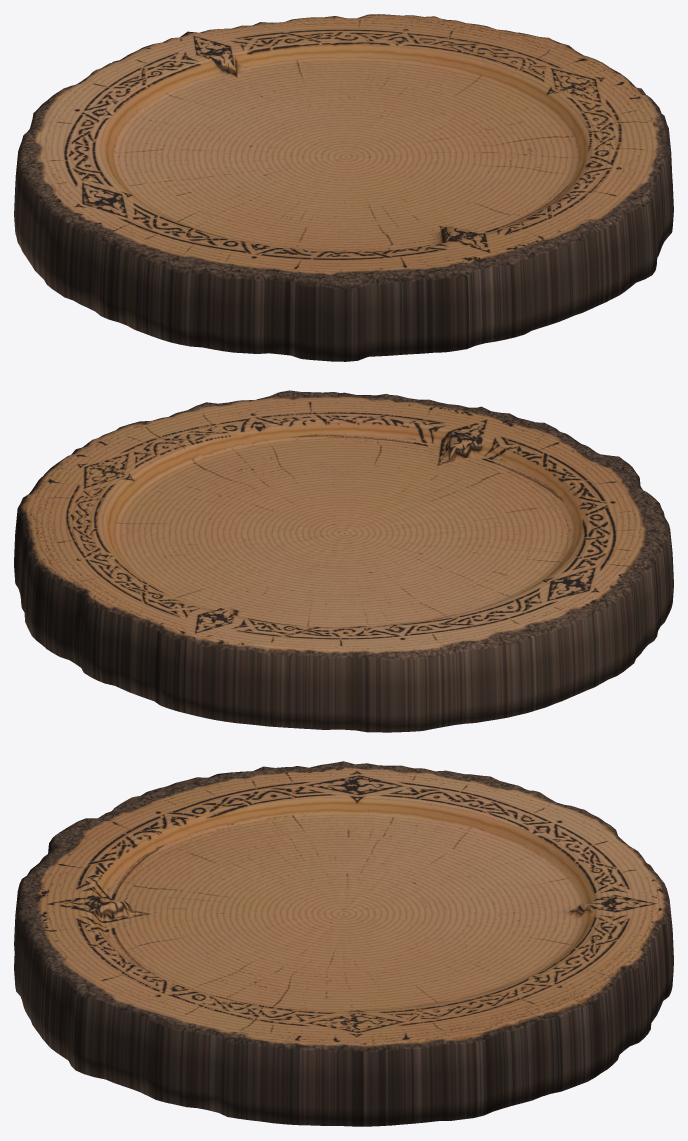
The model's file is board.glb.
The picture shows the model from 3 angles, top to bottom: view 1: azimuth 30°, elevation 25°; view 2: azimuth 150°, elevation 25°; view 3: azimuth 270°, elevation 25°; orthographic projection. The views are drawn at different scales.
Visible parts, largest first — view 1: board; view 2: board; view 3: board.
Boxes of the visible parts, box(x1,y1,x2,y2) form: board: box(14, 14, 673, 361); board: box(14, 390, 673, 732); board: box(14, 761, 673, 1126).
Size of the model in its own units: 20.12 by 2.63 by 19.32.
Materials: 1 (1 with a texture image).
